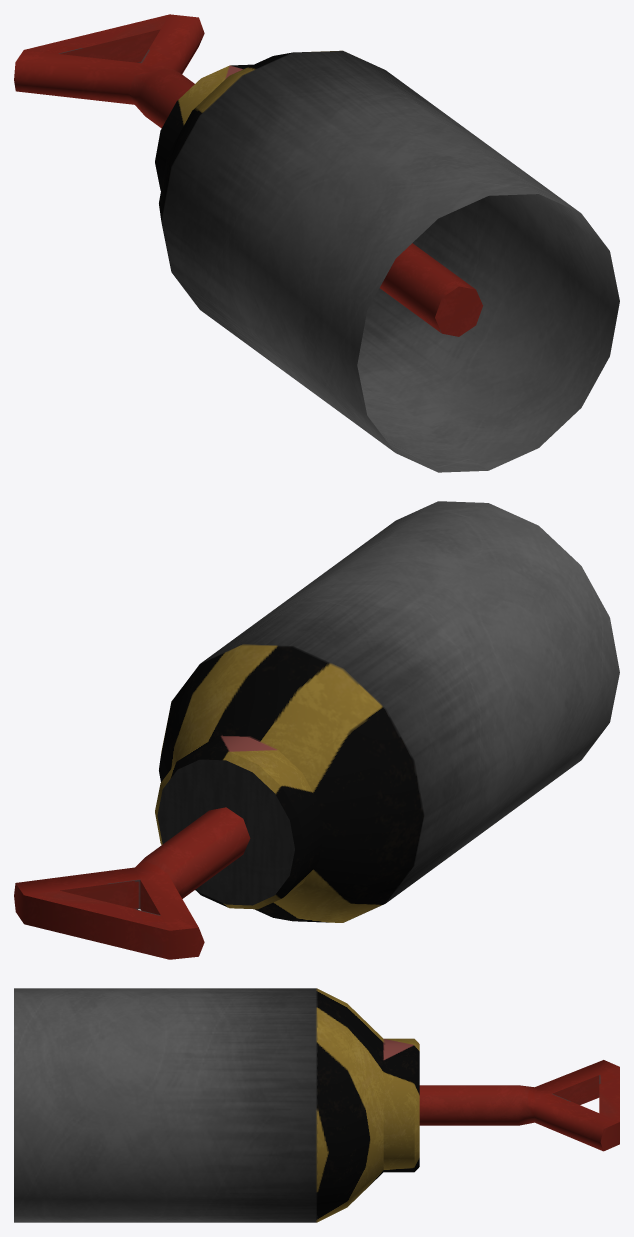
The model's file is canister.glb.
3 renders of one model, top to bottom at view 1: azimuth 30°, elevation 25°; view 2: azimuth 150°, elevation 25°; view 3: azimuth 270°, elevation 25°, orthographic. The views are drawn at different scales.
Parts seen in each view (by area): view 1: canister, latch; view 2: canister, latch; view 3: canister, latch.
Boxes of the visible parts, box(x1,y1,x2,y2) form: canister: box(155, 50, 619, 472); latch: box(14, 14, 482, 336); canister: box(155, 501, 619, 922); latch: box(14, 807, 250, 959); canister: box(14, 988, 419, 1222); latch: box(419, 1060, 619, 1151).
Bounding box in the file's own units: 2 × 2 × 5.17.
Materials: 2 (2 with a texture image).
